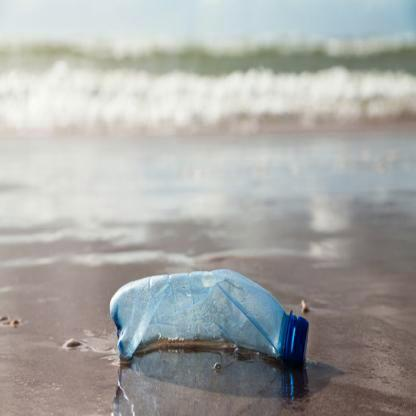Plastic: (107, 264, 311, 380)
